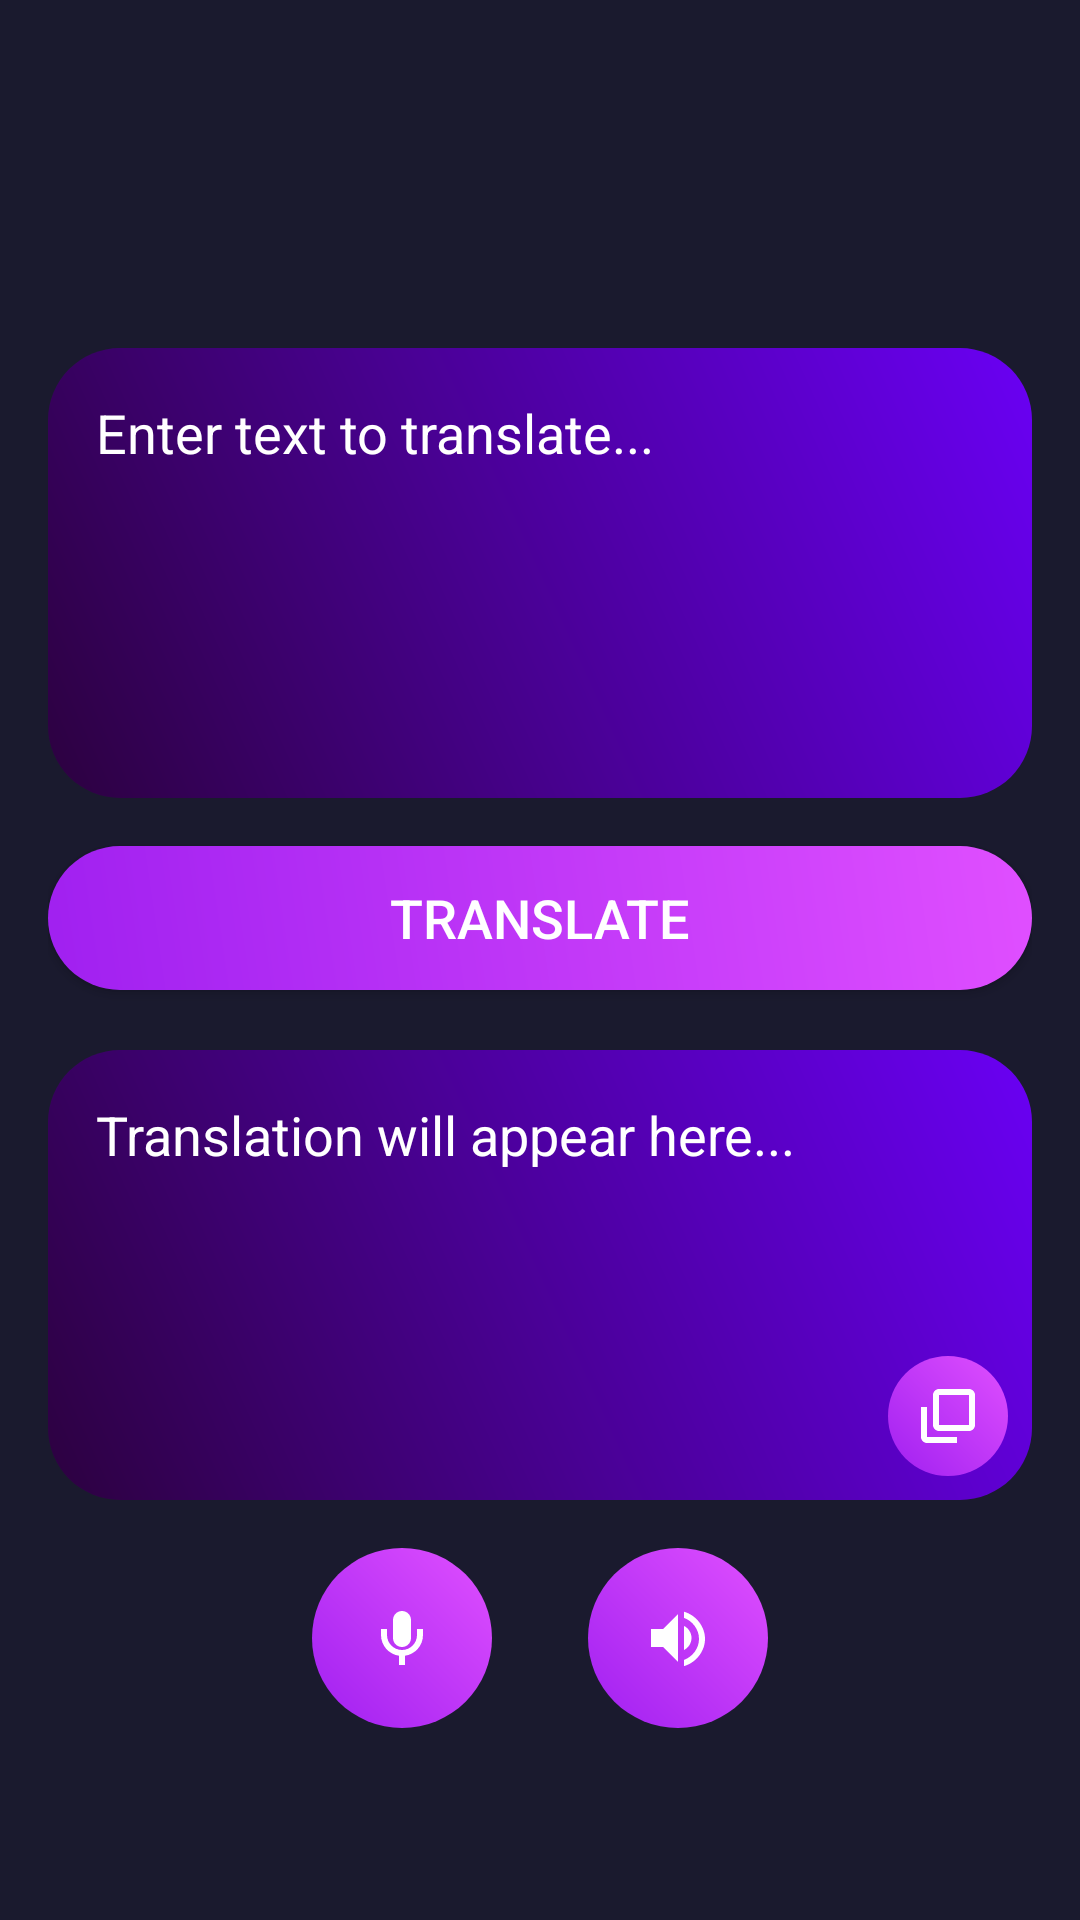

Named icons in this screenshot (1080×1920) and their bounding boxes, (x1, y1, x2, y2):
Copy Translation: (888, 1356, 1008, 1476)
Play Translation: (588, 1548, 768, 1728)
Voice Input: (312, 1548, 492, 1728)
